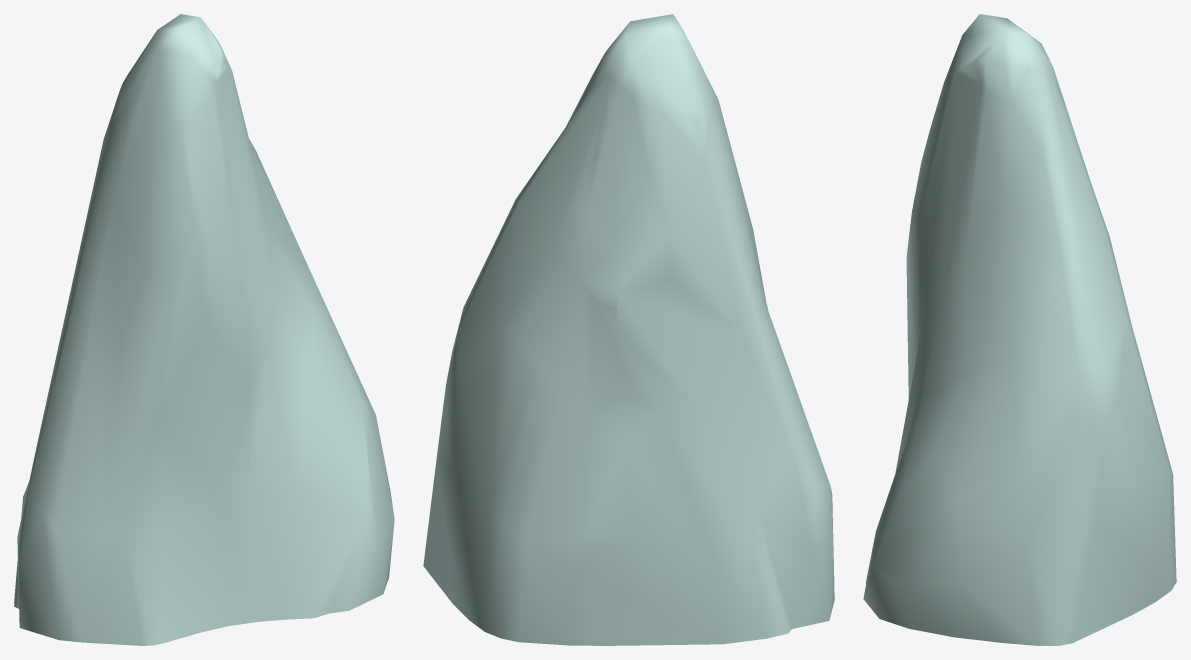
Rendered from ICE_Smaller_low.fbx.
3 views of the same model, side by side, from view 1: azimuth 30°, elevation 25°; view 2: azimuth 150°, elevation 25°; view 3: azimuth 270°, elevation 25° (orthographic). The views are drawn at different scales.
Visible parts, largest first — view 1: RockB_low1; view 2: RockB_low1; view 3: RockB_low1.
Part boxes in pixels (x1,y1,x2,y2): RockB_low1: (14,14,394,645); RockB_low1: (423,14,834,645); RockB_low1: (863,14,1176,645).
Bounding box in the file's own units: 157 × 230 × 122.
